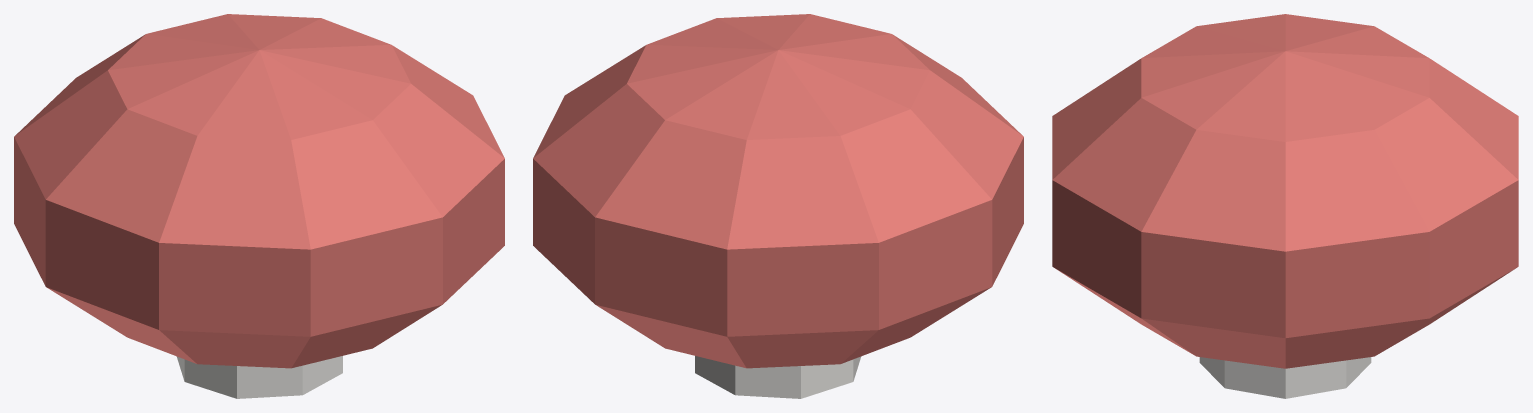
The model's file is hongo.glb.
3 views of the same model, side by side, from view 1: azimuth 30°, elevation 25°; view 2: azimuth 150°, elevation 25°; view 3: azimuth 270°, elevation 25° (orthographic).
Visible parts, largest first — view 1: hongo; view 2: hongo; view 3: hongo.
Part boxes in pixels (box(x1,y1,x2,y2)): hongo: box(14, 14, 504, 398); hongo: box(533, 14, 1023, 398); hongo: box(1052, 14, 1518, 398).
Bounding box in the file's own units: 0.856 × 0.6 × 0.8141.
